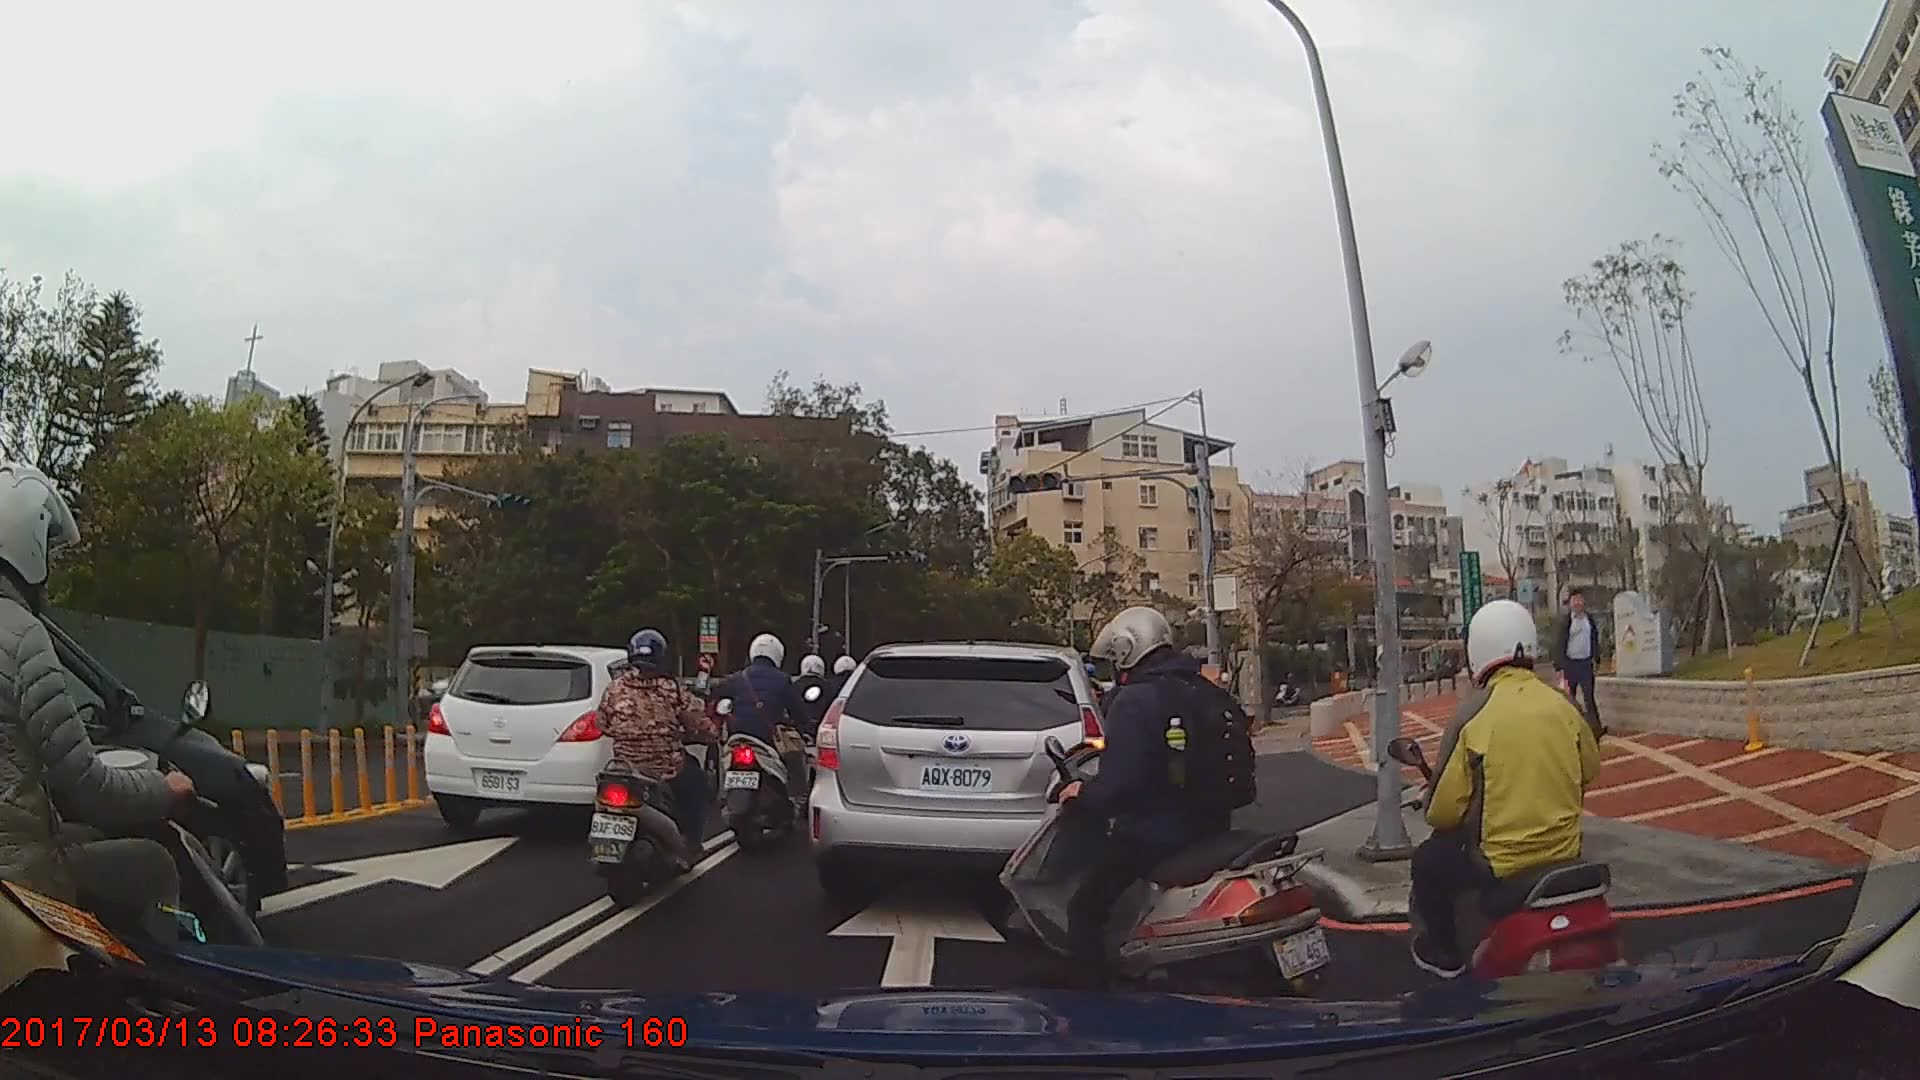pedestrian: (1560, 586, 1618, 744)
rider: (1, 456, 278, 1080), (996, 607, 1332, 1007), (1388, 593, 1627, 1040), (586, 626, 719, 910), (717, 630, 822, 850), (789, 655, 845, 803)
vehicle: (0, 586, 284, 956), (806, 638, 1118, 921), (420, 643, 721, 830)
